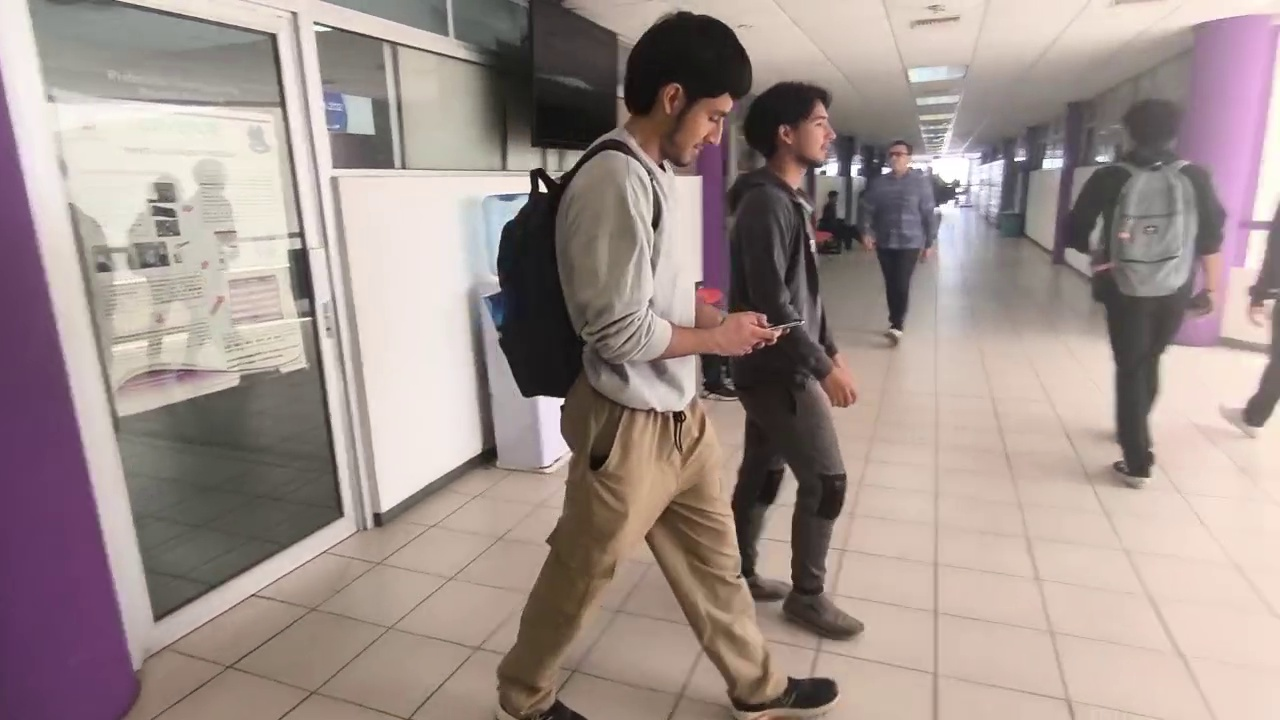mixto2: (761, 310, 810, 337)
